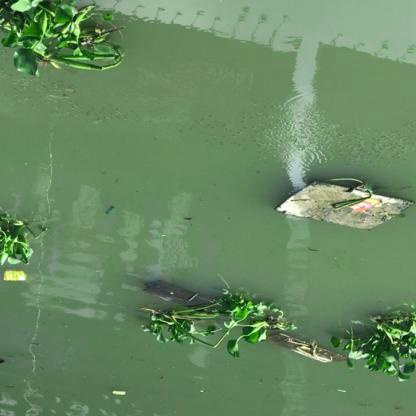Trash: (352, 194, 384, 215), (1, 266, 25, 288), (107, 384, 131, 400)
